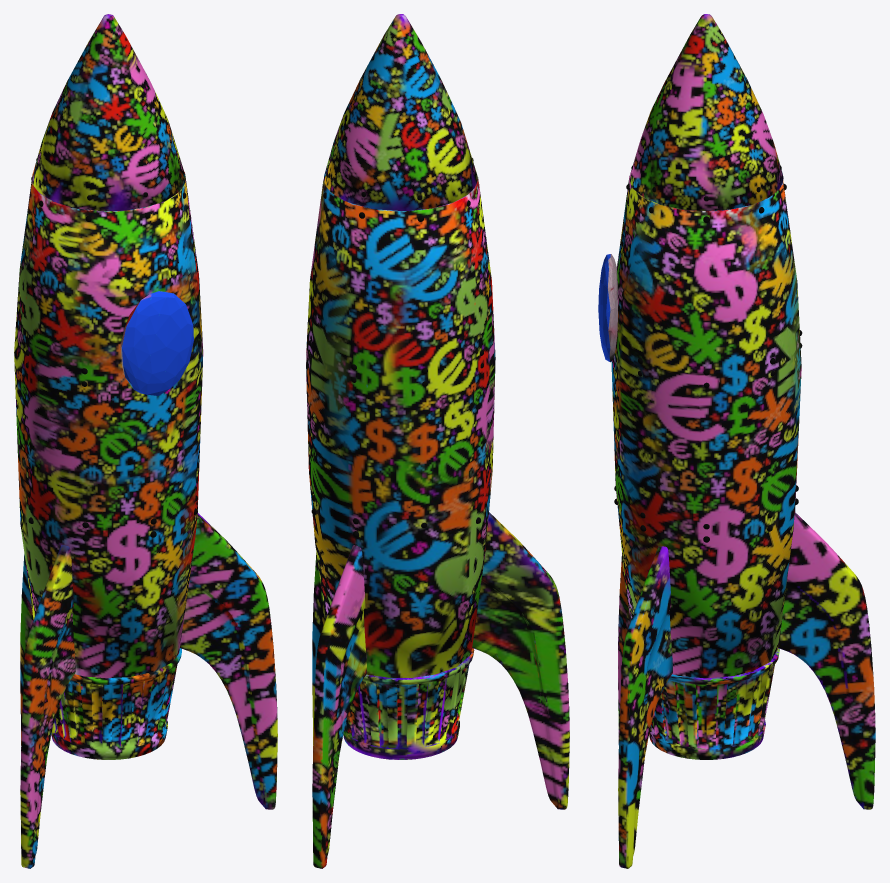
Rendered from rocket.mtl.obj.
The picture shows the model from 3 angles, left to right: view 1: azimuth 30°, elevation 25°; view 2: azimuth 150°, elevation 25°; view 3: azimuth 270°, elevation 25°; orthographic projection.
Visible parts, largest first — view 1: Cylinder.1, Cube_0.1, Cylinder, Cylinder.2, Sphere; view 2: Cylinder.1, Cube_0.1, Cylinder, Cylinder.2, Sphere_0.1; view 3: Cylinder.1, Cube_0.1, Cylinder, Cylinder.2, Sphere, Sphere_0.1.
Part boxes in pixels (<box>): Cylinder.1: <box>14,172,203,678</box>; Cube_0.1: <box>20,513,277,868</box>; Cylinder: <box>32,14,185,210</box>; Cylinder.2: <box>51,648,181,759</box>; Sphere: <box>120,291,193,395</box>; Cylinder.1: <box>306,177,495,677</box>; Cube_0.1: <box>312,512,569,868</box>; Cylinder: <box>324,14,477,210</box>; Cylinder.2: <box>343,648,474,759</box>; Sphere_0.1: <box>308,192,483,541</box>; Cylinder.1: <box>611,175,801,678</box>; Cube_0.1: <box>618,512,875,868</box>; Cylinder: <box>629,14,783,210</box>; Cylinder.2: <box>649,648,779,759</box>; Sphere: <box>598,254,617,362</box>; Sphere_0.1: <box>614,183,802,542</box>.
Size of the model in its own units: 86.73 by 256 by 81.16.
Materials: 2 (2 with a texture image).
